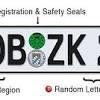B: (7, 33, 25, 67)
K: (65, 33, 87, 67)
Z: (47, 32, 66, 67)
